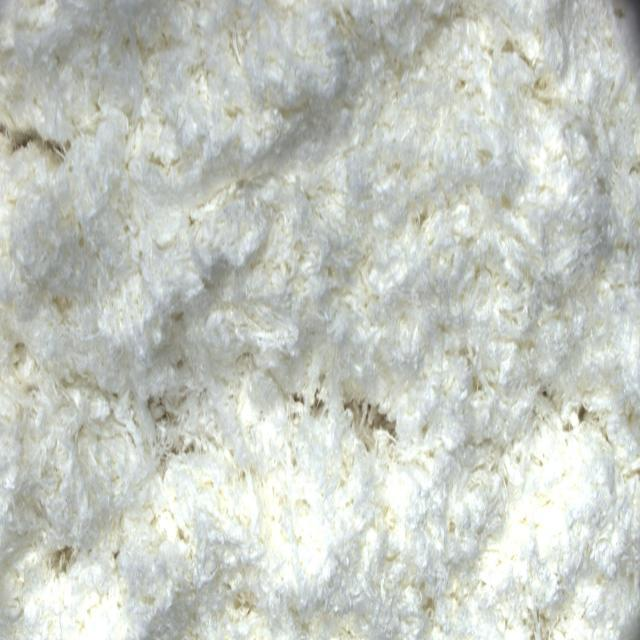dust: (346, 396, 401, 459), (150, 389, 183, 457), (13, 130, 79, 160), (575, 403, 590, 428)
